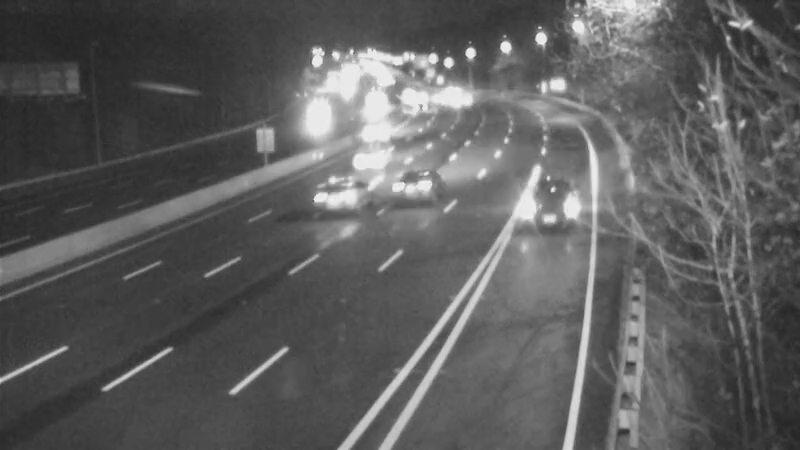vehicle: (333, 120, 413, 200), (372, 144, 452, 224), (303, 152, 383, 232), (514, 155, 594, 235), (383, 83, 433, 133), (364, 102, 414, 152), (295, 86, 345, 136), (346, 74, 396, 124)
